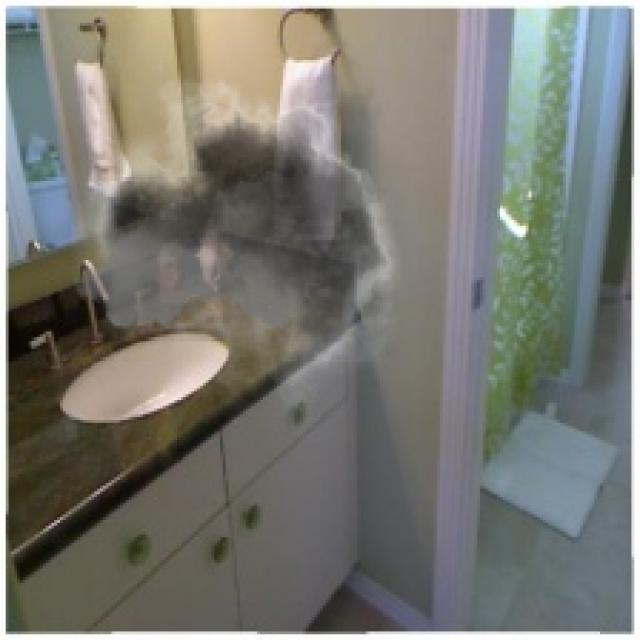smoke: (72, 60, 417, 426)
